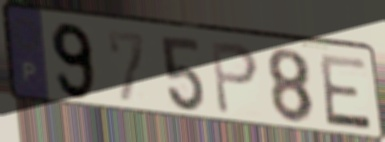5: (157, 33, 207, 114)
7: (105, 27, 147, 105)
8: (265, 45, 318, 126)
9: (49, 20, 101, 102)
E: (317, 52, 375, 133)
P: (208, 39, 262, 118)
